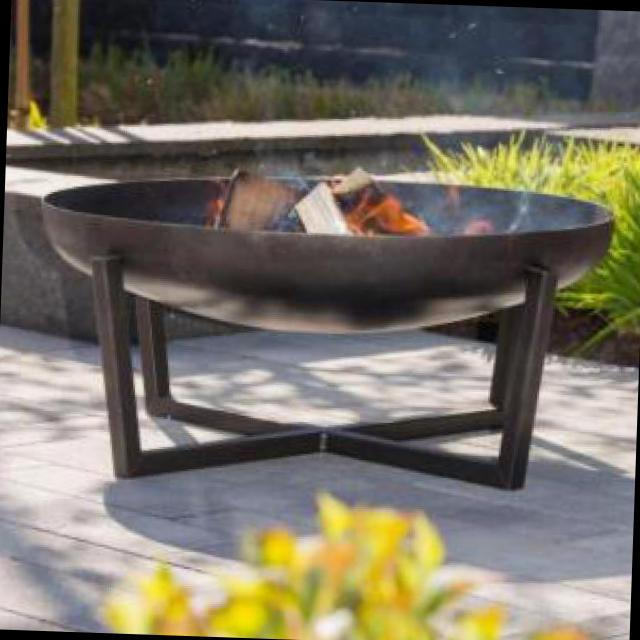fire: (340, 120, 490, 234)
